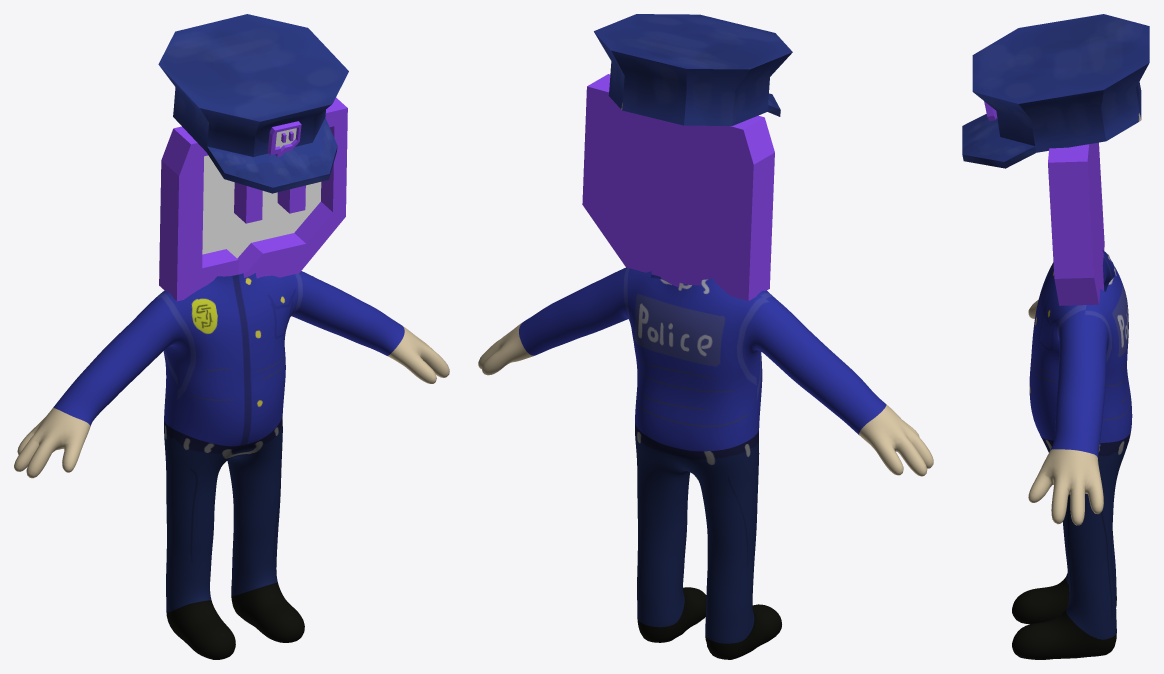
The picture shows the model from 3 angles, left to right: view 1: azimuth 30°, elevation 25°; view 2: azimuth 150°, elevation 25°; view 3: azimuth 270°, elevation 25°; orthographic projection. The views are drawn at different scales.
Parts seen in each view (by area): view 1: Character_Tussenweek:polySurface2, hat, Twitch_logo, Twitch_logo.001; view 2: Character_Tussenweek:polySurface2, Twitch_logo, hat; view 3: Character_Tussenweek:polySurface2, hat, Twitch_logo.
Boxes of the visible parts, x1,y1,x2,y2 form: Character_Tussenweek:polySurface2: (14, 271, 449, 659); hat: (158, 14, 348, 193); Twitch_logo: (159, 97, 347, 301); Twitch_logo.001: (267, 121, 301, 156); Character_Tussenweek:polySurface2: (478, 267, 933, 659); Twitch_logo: (582, 74, 774, 300); hat: (594, 14, 792, 125); Character_Tussenweek:polySurface2: (1012, 250, 1132, 659); hat: (962, 14, 1149, 168); Twitch_logo: (1048, 142, 1104, 305).
Size of the model in its own units: 3.99 by 5.15 by 1.46.
